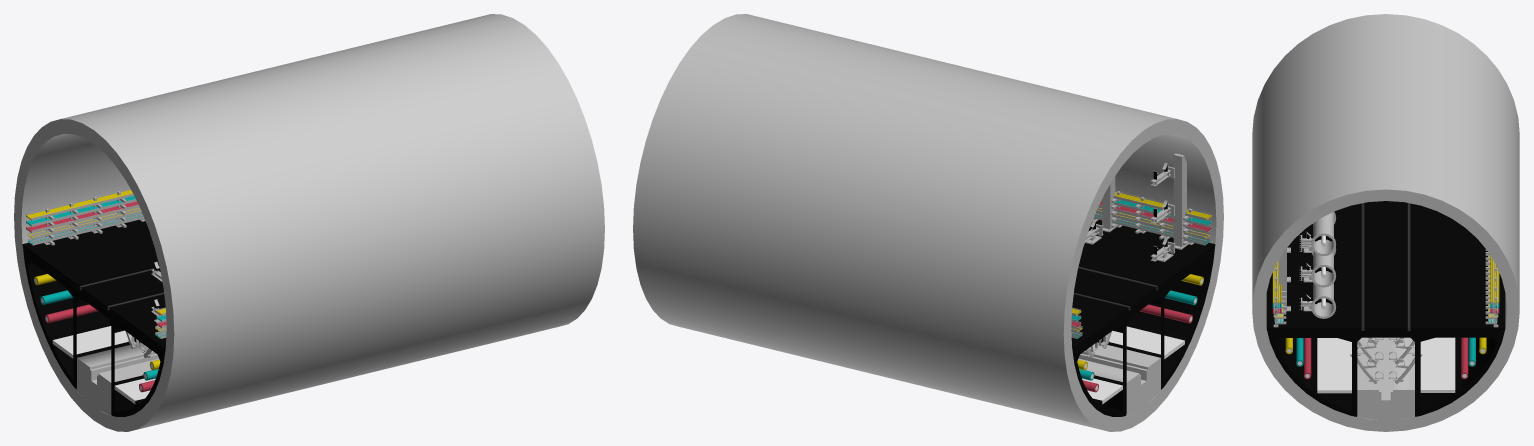
3 renders of one model, left to right at view 1: azimuth 30°, elevation 25°; view 2: azimuth 150°, elevation 25°; view 3: azimuth 270°, elevation 25°, orthographic. The views are drawn at different scales.
Visible parts, largest first — view 1: 管廊壁, Rectangle001, Circle073, Line018, Rectangle257, Line008, Line010; view 2: 管廊壁, Rectangle001, Circle073, Line018, Rectangle258, Rectangle686; view 3: 管廊壁, Rectangle001, Circle073, Line018, Rectangle257, Rectangle258, 管道004, 导轨001, 导轨002, 管道001.001, 管道002, Rectangle529 (+2 smaller).
Part boxes in pixels (<box>): 管廊壁: <box>14,14,604,431</box>; Rectangle001: <box>22,220,166,351</box>; Circle073: <box>23,248,164,416</box>; Line018: <box>76,342,159,415</box>; Rectangle257: <box>52,326,131,358</box>; Line008: <box>30,213,144,245</box>; Line010: <box>30,208,141,239</box>; 管廊壁: <box>633,14,1223,431</box>; Rectangle001: <box>1071,220,1215,351</box>; Circle073: <box>1073,248,1214,416</box>; Line018: <box>1078,342,1161,415</box>; Rectangle258: <box>1105,326,1184,358</box>; Rectangle686: <box>1173,153,1186,246</box>; 管廊壁: <box>1252,14,1519,431</box>; Rectangle001: <box>1266,201,1505,331</box>; Circle073: <box>1267,331,1504,416</box>; Line018: <box>1357,337,1415,420</box>; Rectangle257: <box>1420,337,1455,392</box>; Rectangle258: <box>1317,338,1351,393</box>; 管道004: <box>1313,212,1333,253</box>; 导轨001: <box>1407,203,1410,331</box>; 导轨002: <box>1361,203,1364,330</box>; 管道001.001: <box>1313,283,1333,315</box>; 管道002: <box>1313,251,1333,284</box>; Rectangle529: <box>1279,248,1286,309</box>.
Bounding box in the file's own units: 18 × 11.6 × 11.6.
